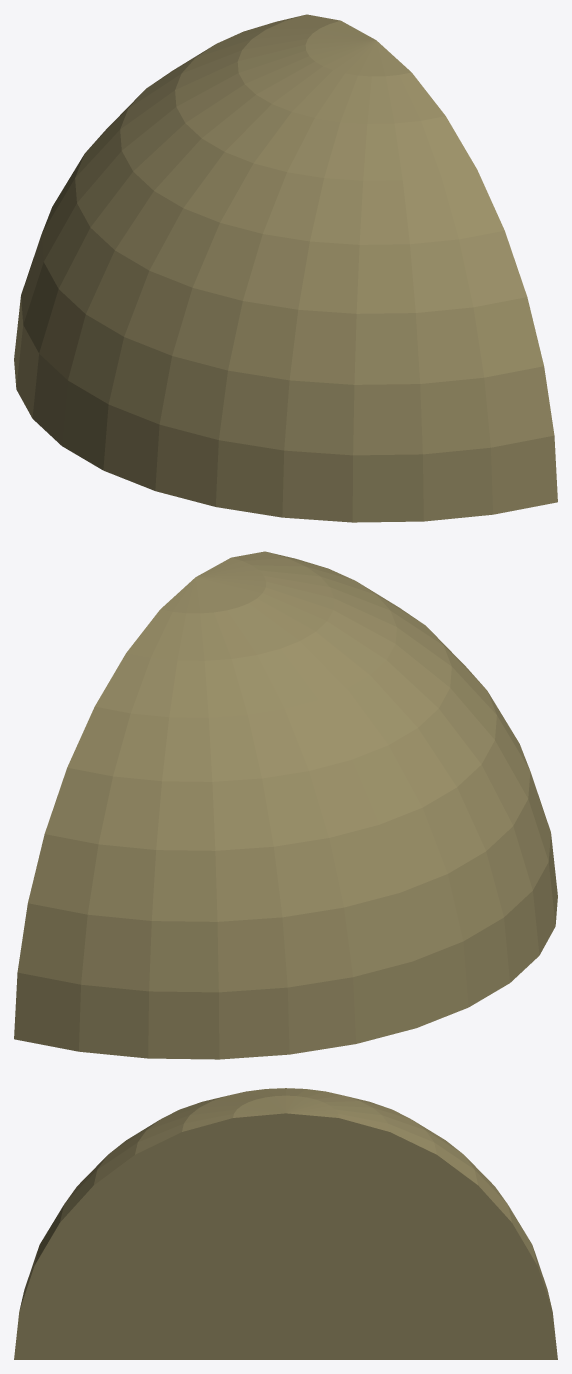
Rendered from potato1.fbx.
3 renders of one model, top to bottom at view 1: azimuth 30°, elevation 25°; view 2: azimuth 150°, elevation 25°; view 3: azimuth 270°, elevation 25°, orthographic. The views are drawn at different scales.
Parts seen in each view (by area): view 1: Sphere; view 2: Sphere; view 3: Sphere.
Boxes of the visible parts, left/top/right/bottom form: Sphere: left=14, top=14, right=557, bottom=522; Sphere: left=14, top=551, right=557, bottom=1059; Sphere: left=14, top=1088, right=557, bottom=1359.
Size of the model in its own units: 100 by 100 by 200.
